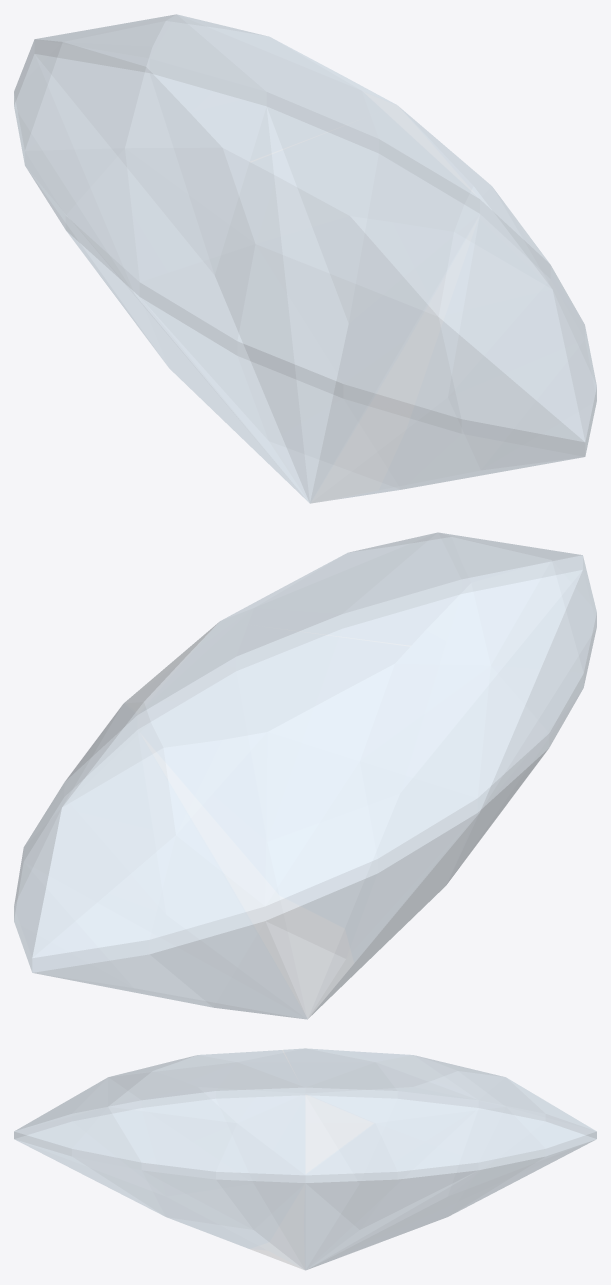
File: march.fbx
The picture shows the model from 3 angles, top to bottom: view 1: azimuth 30°, elevation 25°; view 2: azimuth 150°, elevation 25°; view 3: azimuth 270°, elevation 25°; orthographic projection. The views are drawn at different scales.
Parts seen in each view (by area): view 1: aquamarine; view 2: aquamarine; view 3: aquamarine.
Boxes of the visible parts, box(x1,y1,x2,y2) form: aquamarine: box(14, 14, 596, 503); aquamarine: box(14, 532, 596, 1019); aquamarine: box(14, 1048, 596, 1270).
Bounding box in the file's own units: 626 × 663 × 1755.
Materials: 1 (1 with a texture image).
